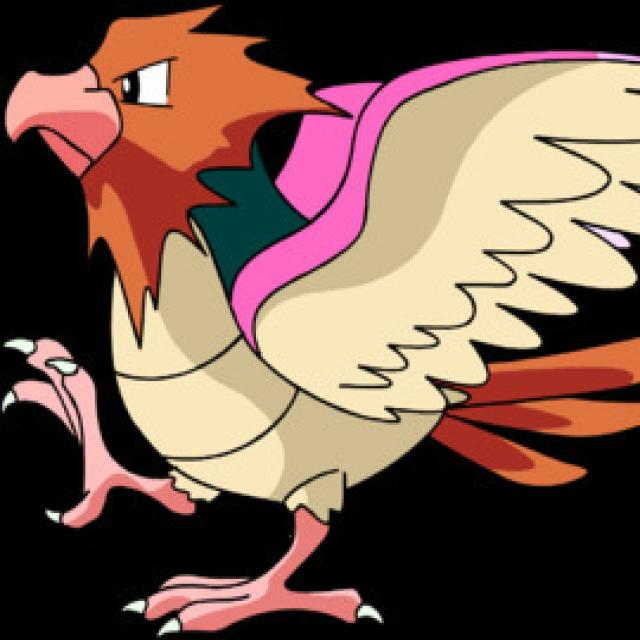Spearow: (0, 11, 482, 555)
